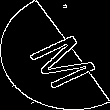M_NE: (14, 23, 96, 87)
